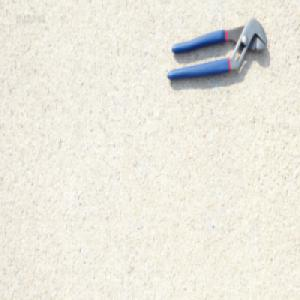Pliers: (165, 17, 268, 81)
